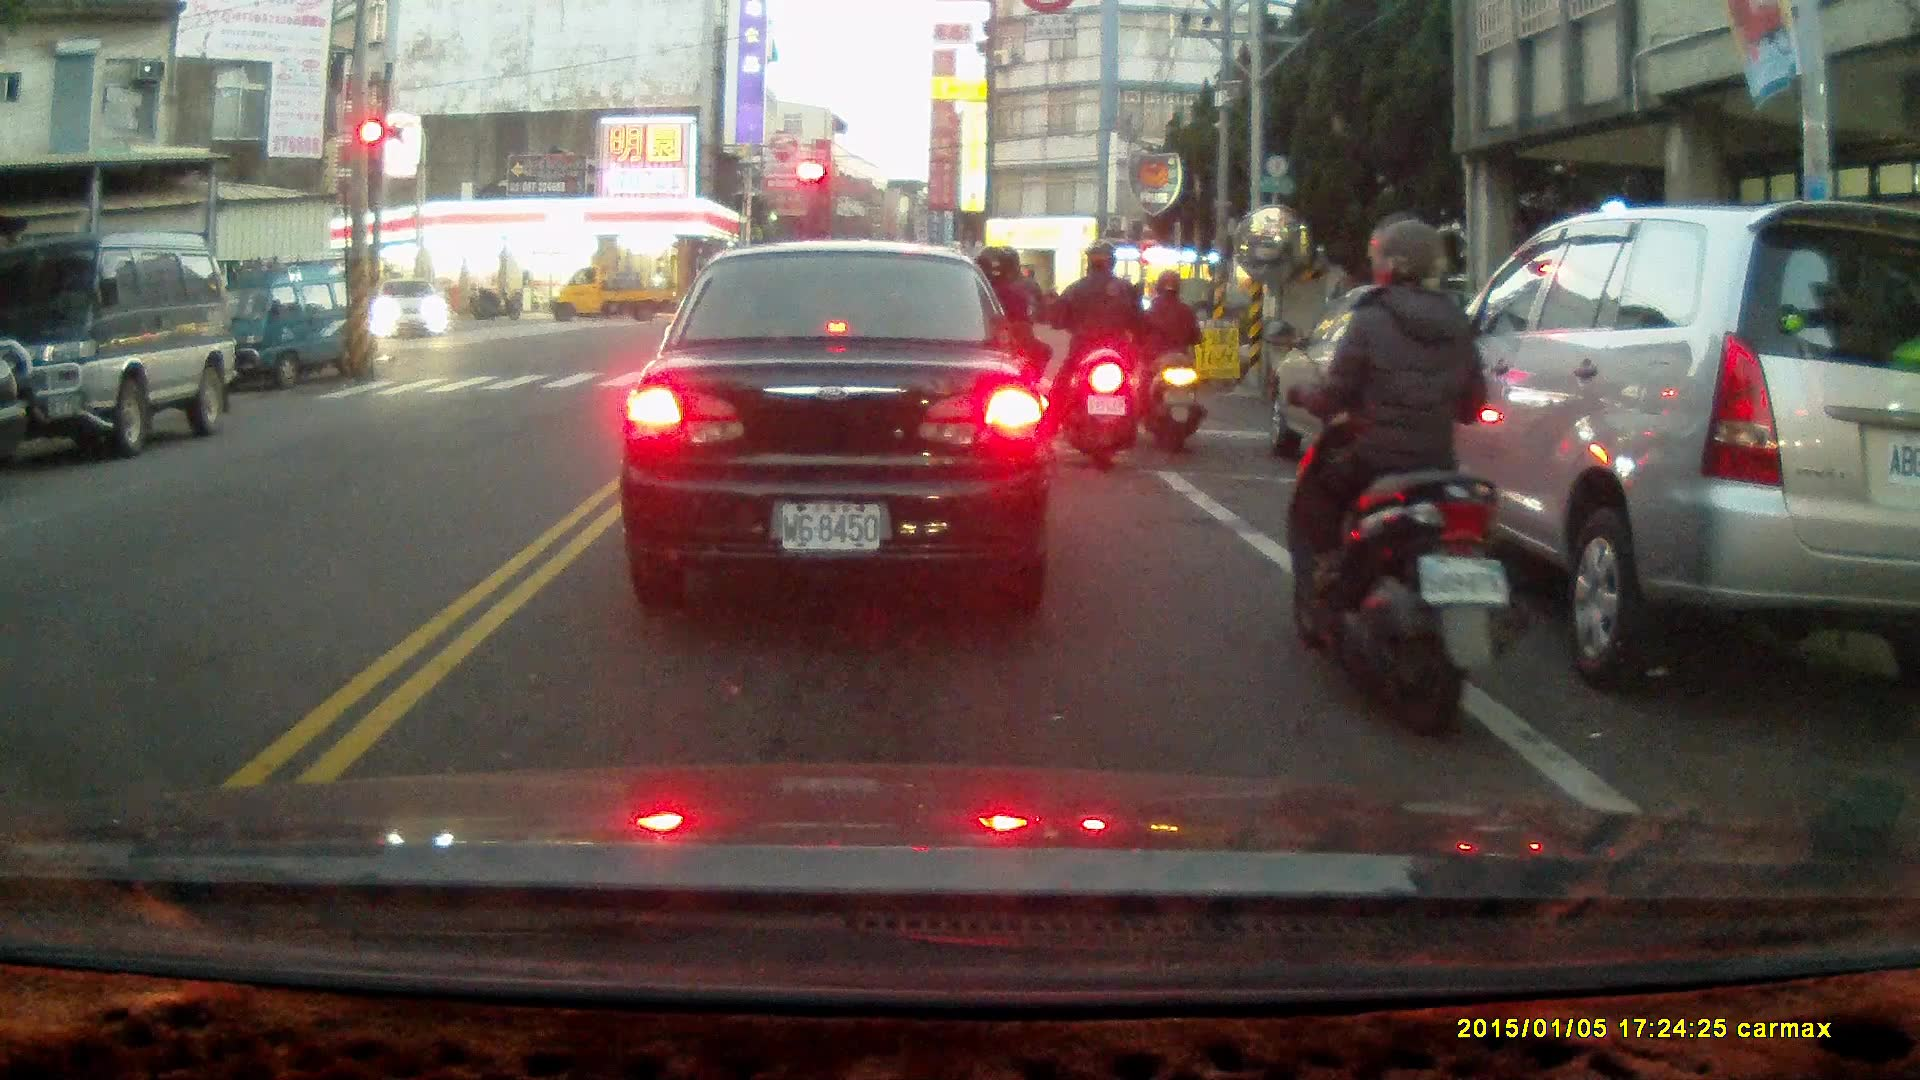rider: (1265, 209, 1532, 744), (942, 246, 1054, 477), (1048, 243, 1141, 469), (1134, 269, 1204, 450), (470, 283, 519, 321)
vehicle: (1379, 195, 1920, 685), (617, 243, 1061, 606), (1, 234, 239, 458), (194, 255, 381, 394), (543, 264, 682, 325), (372, 277, 451, 343)
